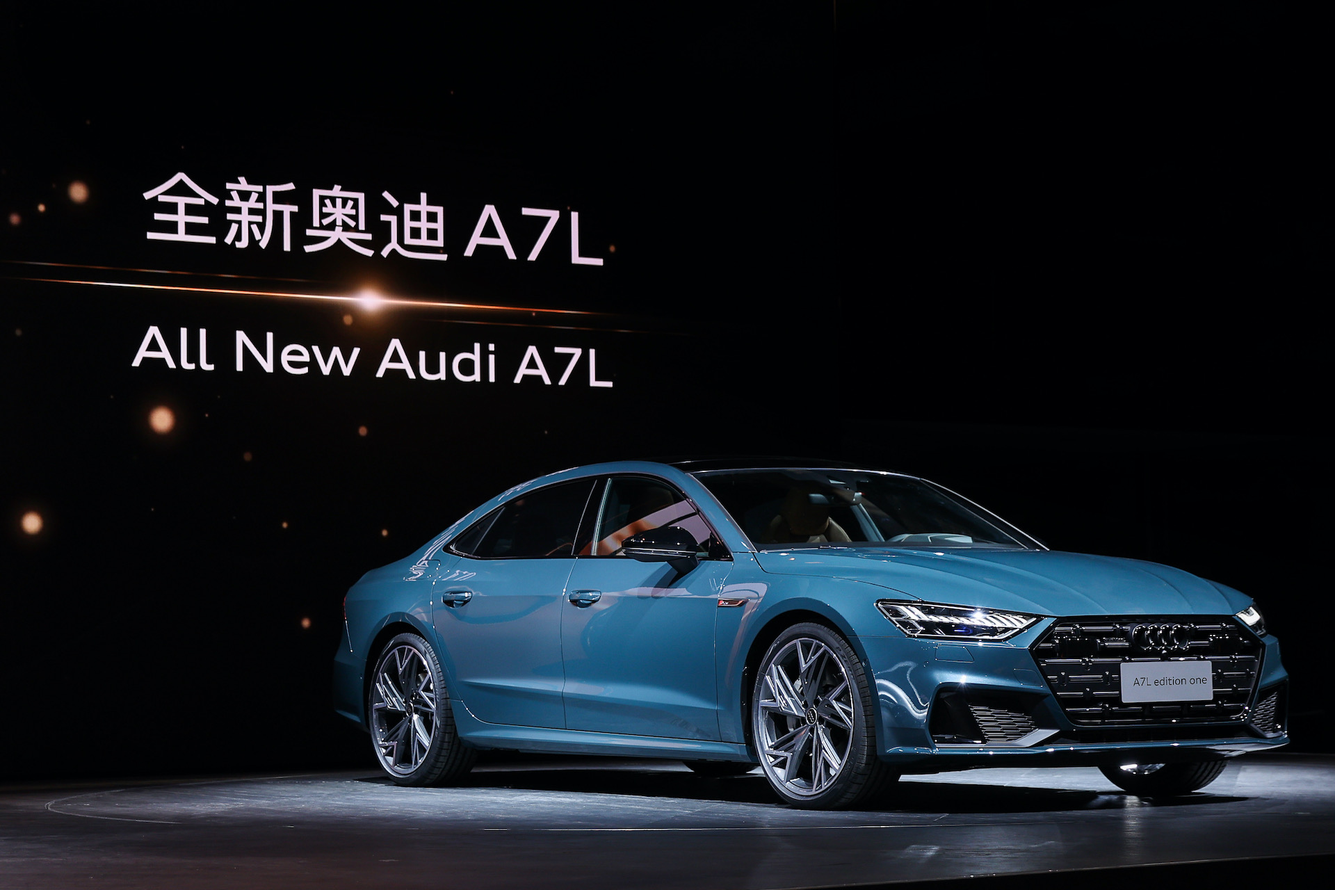other: (335, 463, 1290, 804)
